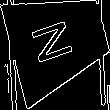N_E: (33, 15, 84, 68)
